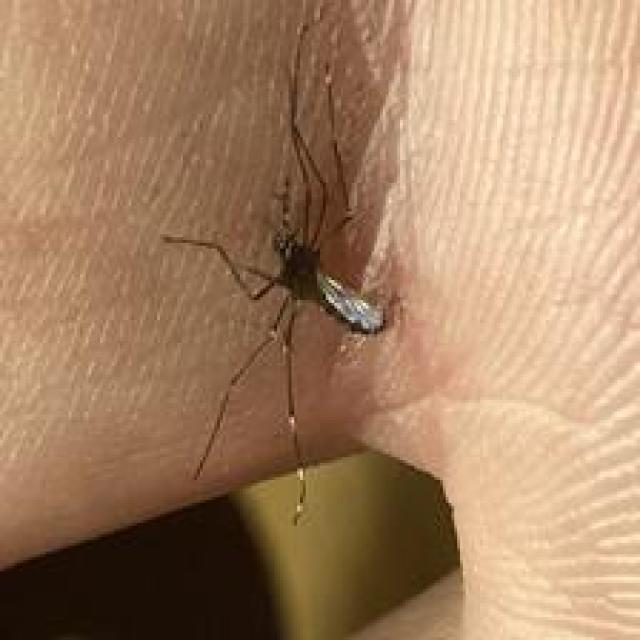Aedes albopictus: (160, 127, 389, 527)
